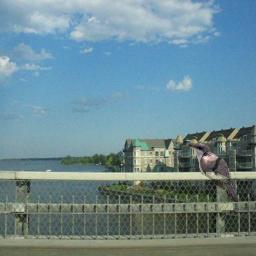Cuckoo: (186, 141, 238, 204)
